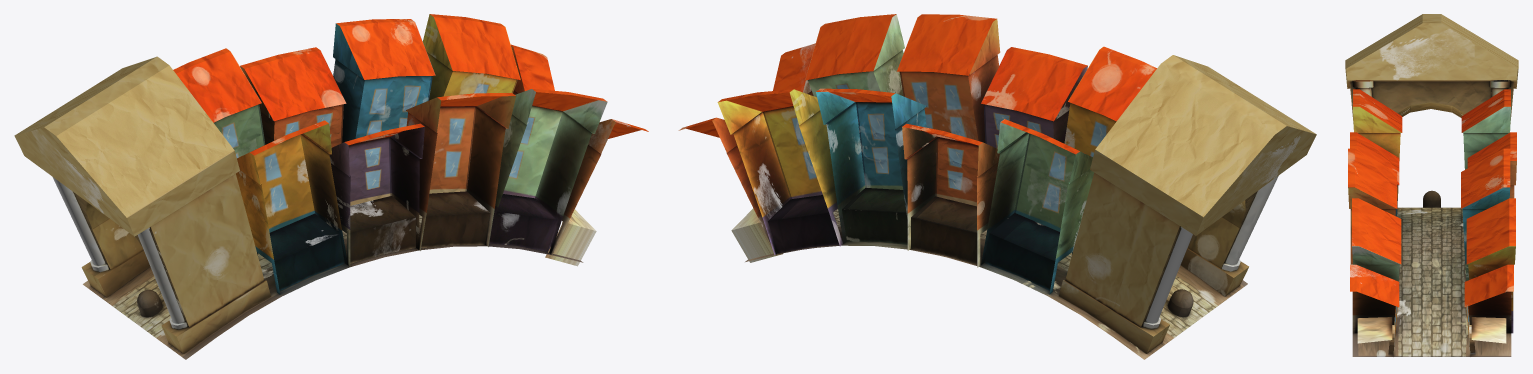
The model's file is modulo_centro_A.FBX.
The picture shows the model from 3 angles, left to right: view 1: azimuth 30°, elevation 25°; view 2: azimuth 150°, elevation 25°; view 3: azimuth 270°, elevation 25°; orthographic projection. The views are drawn at different scales.
Parts seen in each view (by area): view 1: modulo_centro_A_00, modulo_centro_A_02, modulo_centro_A_01, modulo_centro_A_03, modulo_centro_A_05; view 2: modulo_centro_A_00, modulo_centro_A_02, modulo_centro_A_01, modulo_centro_A_05, modulo_centro_A_03; view 3: modulo_centro_A_00, modulo_centro_A_02, modulo_centro_A_05, modulo_centro_A_03, modulo_centro_A_01.
Part boxes in pixels (x1,y1,x2,y2): modulo_centro_A_00: (14, 56, 270, 353); modulo_centro_A_02: (333, 14, 607, 253); modulo_centro_A_01: (173, 47, 424, 294); modulo_centro_A_03: (511, 44, 648, 266); modulo_centro_A_05: (83, 215, 583, 359); modulo_centro_A_00: (1059, 55, 1316, 353); modulo_centro_A_02: (717, 14, 1000, 254); modulo_centro_A_01: (902, 46, 1156, 294); modulo_centro_A_05: (745, 209, 1247, 359); modulo_centro_A_03: (678, 43, 815, 262); modulo_centro_A_00: (1345, 14, 1518, 207); modulo_centro_A_02: (1348, 148, 1515, 333); modulo_centro_A_05: (1352, 207, 1511, 356); modulo_centro_A_03: (1350, 264, 1513, 354); modulo_centro_A_01: (1350, 89, 1516, 216).
Size of the model in its own units: 275 by 125 by 98.07.
